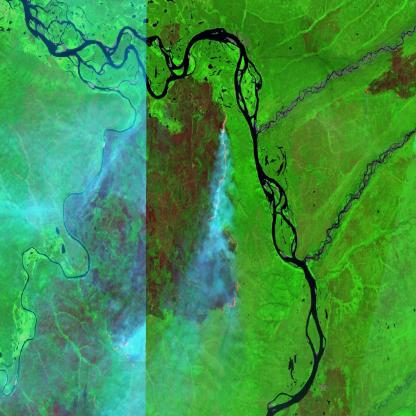fire: (201, 105, 246, 320), (101, 322, 144, 369)
